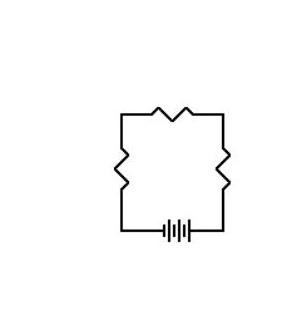resistor: (210, 124, 242, 198), (106, 139, 146, 197), (137, 98, 196, 129)
